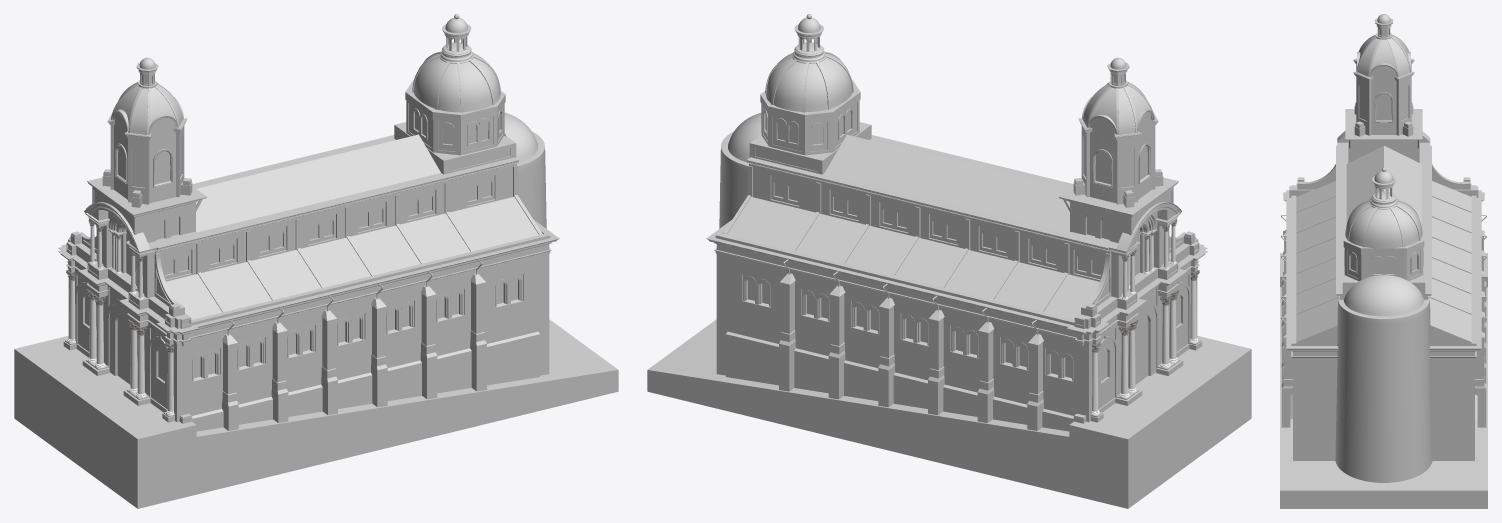
3 renders of one model, left to right at view 1: azimuth 30°, elevation 25°; view 2: azimuth 150°, elevation 25°; view 3: azimuth 270°, elevation 25°, orthographic. The views are drawn at different scales.
Visible parts, largest first — view 1: Base del modelado.001, Nave laterales.001, techo.001, Cube.001, Nave.001, perfil nave central.001, campanario.001, Fachada.001, columnas.001, Base cupula.002, Prefil naves laterales 2.001, Cúpula.009 (+11 smaller); view 2: Base del modelado.001, Nave laterales.001, techo.001, Cube.001, Nave.001, perfil nave central.001, campanario.001, Fachada.001, columnas.001, Base cupula.002, Prefil naves laterales 2.001, Cúpula.009 (+11 smaller); view 3: Cylinder.001, techo.001, Base del modelado.001, Nave laterales.001, campanario.001, perfil nave central.001, Cube.001, Base cupula.002, Cúpula.009, Sphere.003, Prefil naves laterales 2.001, Fachada.001 (+14 smaller).
Boxes of the visible parts, <box> form: Base del modelado.001: <box>14,319,618,508</box>; Nave laterales.001: <box>68,244,549,422</box>; techo.001: <box>166,134,538,319</box>; Cube.001: <box>191,273,539,431</box>; Nave.001: <box>89,167,518,297</box>; perfil nave central.001: <box>151,135,518,253</box>; campanario.001: <box>102,112,192,207</box>; Fachada.001: <box>63,233,550,423</box>; columnas.001: <box>66,220,174,415</box>; Base cupula.002: <box>405,80,505,155</box>; Prefil naves laterales 2.001: <box>58,219,559,334</box>; Cúpula.009: <box>413,52,500,112</box>; Base del modelado.001: <box>647,319,1251,508</box>; Nave laterales.001: <box>716,244,1197,422</box>; techo.001: <box>727,134,1099,319</box>; Cube.001: <box>726,273,1073,431</box>; Nave.001: <box>753,167,1176,297</box>; perfil nave central.001: <box>747,135,1114,253</box>; campanario.001: <box>1073,112,1163,207</box>; Fachada.001: <box>715,233,1202,423</box>; columnas.001: <box>1091,220,1199,415</box>; Base cupula.002: <box>760,80,860,155</box>; Prefil naves laterales 2.001: <box>706,220,1207,334</box>; Cúpula.009: <box>766,52,852,111</box>; Cylinder.001: <box>1335,299,1432,482</box>; techo.001: <box>1296,146,1471,340</box>; Base del modelado.001: <box>1280,253,1487,508</box>; Nave laterales.001: <box>1293,351,1474,460</box>; campanario.001: <box>1354,64,1413,136</box>; perfil nave central.001: <box>1336,145,1431,299</box>; Cube.001: <box>1281,230,1486,427</box>; Base cupula.002: <box>1343,225,1424,280</box>; Cúpula.009: <box>1345,199,1422,248</box>; Sphere.003: <box>1343,275,1424,316</box>; Prefil naves laterales 2.001: <box>1283,190,1484,351</box>; Fachada.001: <box>1289,183,1478,345</box>.
Bounding box in the file's own units: 1.65 × 1.27 × 0.7324.
2 materials, 1 textured.
